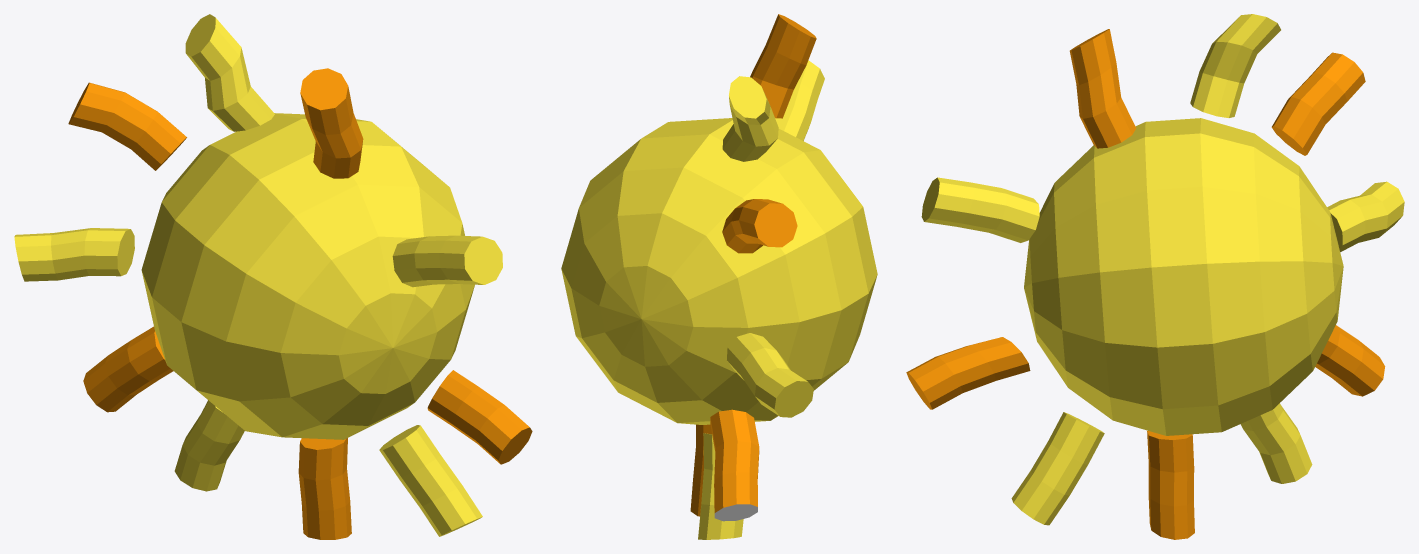
3 views of the same model, side by side, from view 1: azimuth 30°, elevation 25°; view 2: azimuth 150°, elevation 25°; view 3: azimuth 270°, elevation 25° (orthographic). The views are drawn at different scales.
Parts seen in each view (by area): view 1: mesh_293670656, group_1028866099, group_1156473979, group_386304784, group_275130978, group_941846806, group_1874707519, group_1714421301, group_1611081431, group_31802510, group_79276874; view 2: mesh_293670656, group_31802510, group_1028866099, group_1874707519, group_386304784, group_275130978, group_941846806, group_79276874, group_1714421301; view 3: mesh_293670656, group_941846806, group_1156473979, group_386304784, group_1874707519, group_1611081431, group_1714421301, group_275130978, group_1028866099, group_79276874, group_31802510.
Part boxes in pixels (left/top/right/bottom): mesh_293670656: left=141, top=113, right=474, bottom=439; group_1028866099: left=14, top=228, right=134, bottom=281; group_1156473979: left=379, top=425, right=482, bottom=536; group_386304784: left=185, top=14, right=274, bottom=131; group_275130978: left=68, top=82, right=186, bottom=170; group_941846806: left=392, top=235, right=502, bottom=287; group_1874707519: left=300, top=68, right=363, bottom=178; group_1714421301: left=298, top=438, right=351, bottom=539; group_1611081431: left=427, top=370, right=532, bottom=464; group_31802510: left=83, top=326, right=173, bottom=412; group_79276874: left=174, top=400, right=244, bottom=491; mesh_293670656: left=561, top=118, right=877, bottom=424; group_31802510: left=710, top=409, right=759, bottom=521; group_1028866099: left=727, top=333, right=813, bottom=417; group_1874707519: left=750, top=14, right=816, bottom=118; group_386304784: left=722, top=76, right=778, bottom=161; group_275130978: left=722, top=199, right=797, bottom=253; group_941846806: left=775, top=60, right=824, bottom=140; group_79276874: left=698, top=433, right=743, bottom=539; group_1714421301: left=690, top=424, right=711, bottom=516; mesh_293670656: left=1024, top=118, right=1343, bottom=435; group_941846806: left=921, top=177, right=1039, bottom=242; group_1156473979: left=1011, top=412, right=1104, bottom=525; group_386304784: left=1190, top=14, right=1280, bottom=117; group_1874707519: left=1069, top=29, right=1136, bottom=148; group_1611081431: left=906, top=337, right=1030, bottom=409; group_1714421301: left=1147, top=431, right=1194, bottom=539; group_275130978: left=1271, top=52, right=1365, bottom=155; group_1028866099: left=1327, top=181, right=1404, bottom=251; group_79276874: left=1240, top=403, right=1312, bottom=483; group_31802510: left=1315, top=325, right=1385, bottom=396.
Bounding box in the file's own units: 72.3 × 103 × 96.38.
